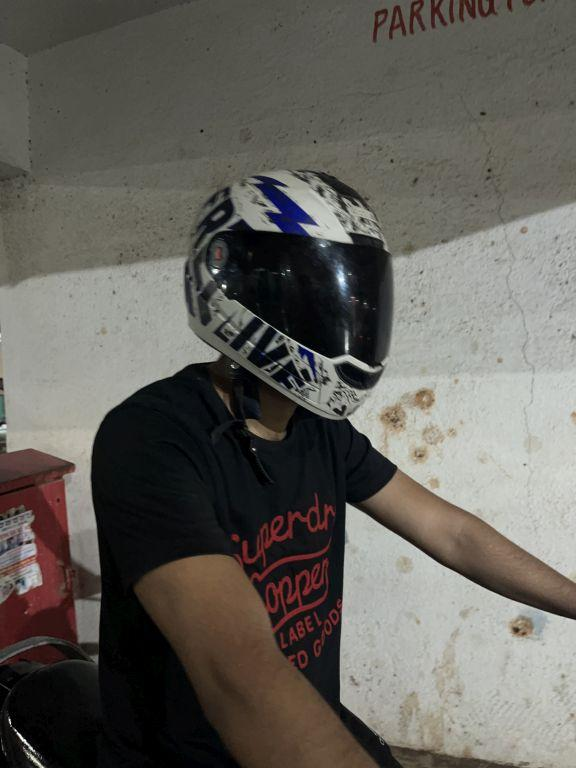helmet: (165, 154, 410, 434)
